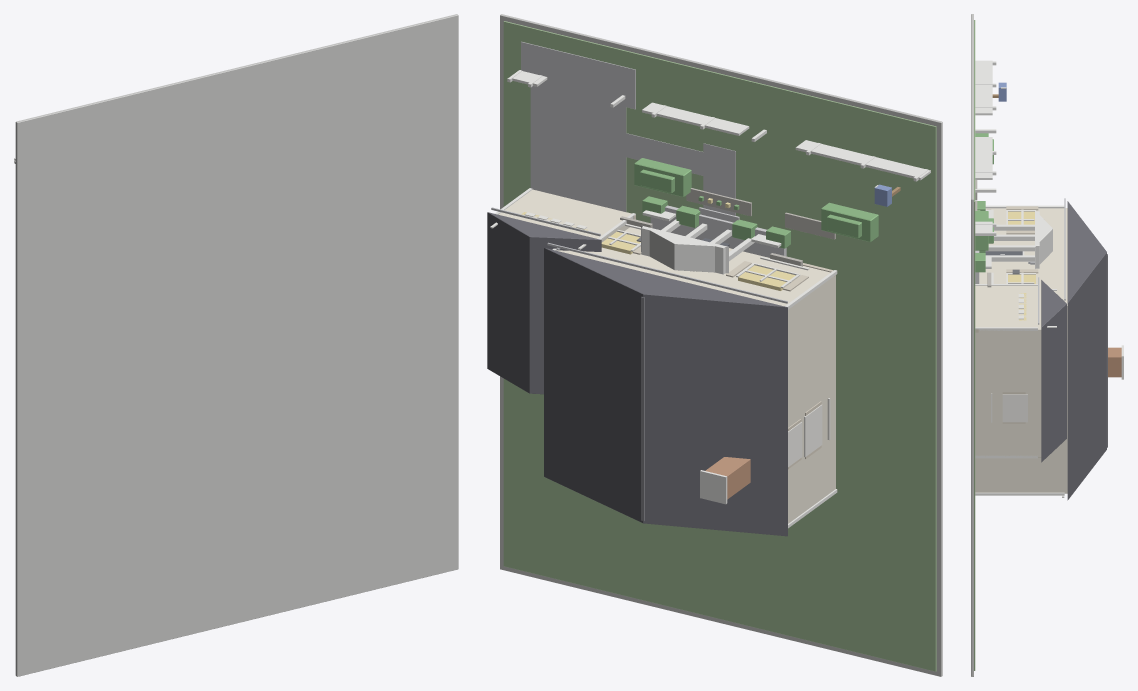
File: personalhouse_colonial.fbx
3 views of the same model, side by side, from view 1: azimuth 30°, elevation 25°; view 2: azimuth 150°, elevation 25°; view 3: azimuth 270°, elevation 25° (orthographic). The views are drawn at different scales.
Visible parts, largest first — view 1: GroundBase; view 2: YardGrass, Roof_Dark_Main, MainBody_Cream, Driveway_Right, GroundBase, Roof_Dark_Garage, Driveway_Apron, Garage_Right, Walkway_Join, PorchPediment, PorchPlatform, FrontFence_LeftSection (+13 smaller); view 3: Garage_Right, Roof_Dark_Main, MainBody_Cream, Roof_Dark_Garage, GroundBase, YardGrass, FrontFence_LeftSection, GarageSideWindow_FrameOuter, FrontFence_MidSection, PorchPediment, Chimney_Brick, RoofRidge_Main (+8 smaller).
Boxes of the visible parts, left/top/right/bottom form: GroundBase: left=15, top=14, right=458, bottom=676; YardGrass: left=503, top=21, right=936, bottom=671; Roof_Dark_Main: left=544, top=248, right=787, bottom=536; MainBody_Cream: left=557, top=227, right=835, bottom=523; Driveway_Right: left=530, top=58, right=626, bottom=211; GroundBase: left=500, top=14, right=942, bottom=676; Roof_Dark_Garage: left=487, top=212, right=601, bottom=394; Driveway_Apron: left=521, top=41, right=635, bottom=109; Garage_Right: left=498, top=189, right=635, bottom=242; Walkway_Join: left=612, top=131, right=732, bottom=180; PorchPediment: left=641, top=225, right=728, bottom=273; PorchPlatform: left=650, top=205, right=786, bottom=257; FrontFence_LeftSection: left=795, top=140, right=930, bottom=180; Garage_Right: left=975, top=284, right=1041, bottom=457; Roof_Dark_Main: left=1067, top=201, right=1106, bottom=500; MainBody_Cream: left=975, top=208, right=1067, bottom=493; Roof_Dark_Garage: left=1041, top=280, right=1066, bottom=462; GroundBase: left=971, top=14, right=973, bottom=676; YardGrass: left=974, top=20, right=975, bottom=670; FrontFence_LeftSection: left=975, top=60, right=992, bottom=115; GarageSideWindow_FrameOuter: left=1002, top=394, right=1027, bottom=422; FrontFence_MidSection: left=975, top=137, right=992, bottom=179; PorchPediment: left=1035, top=210, right=1052, bottom=268; Chimney_Brick: left=1108, top=347, right=1121, bottom=377; RoofRidge_Main: left=1106, top=254, right=1107, bottom=447.
Bounding box in the file's own units: 1500 × 1800 × 522.
